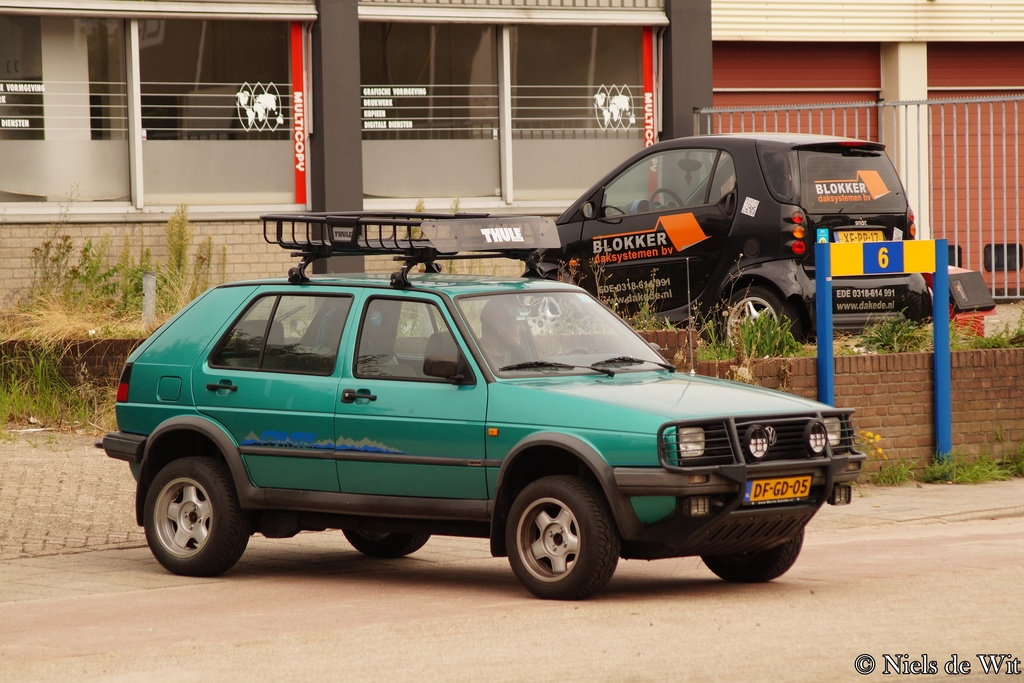Car: (103, 258, 860, 589), (524, 137, 912, 356)
